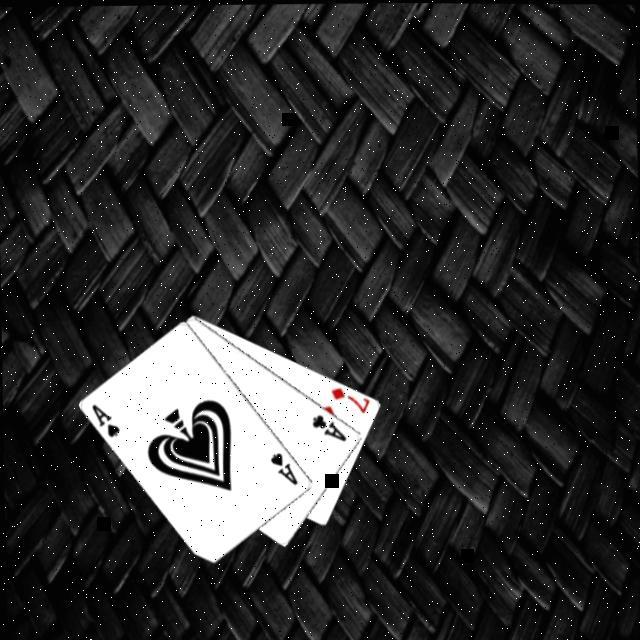7D: (328, 383, 373, 416)
AC: (310, 410, 351, 445)
AS: (267, 449, 302, 489), (89, 401, 124, 441)
